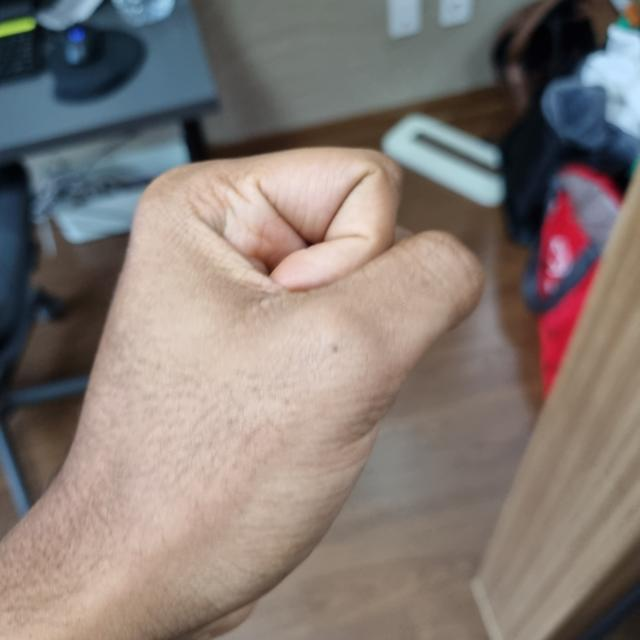Rock: (33, 143, 482, 637)
